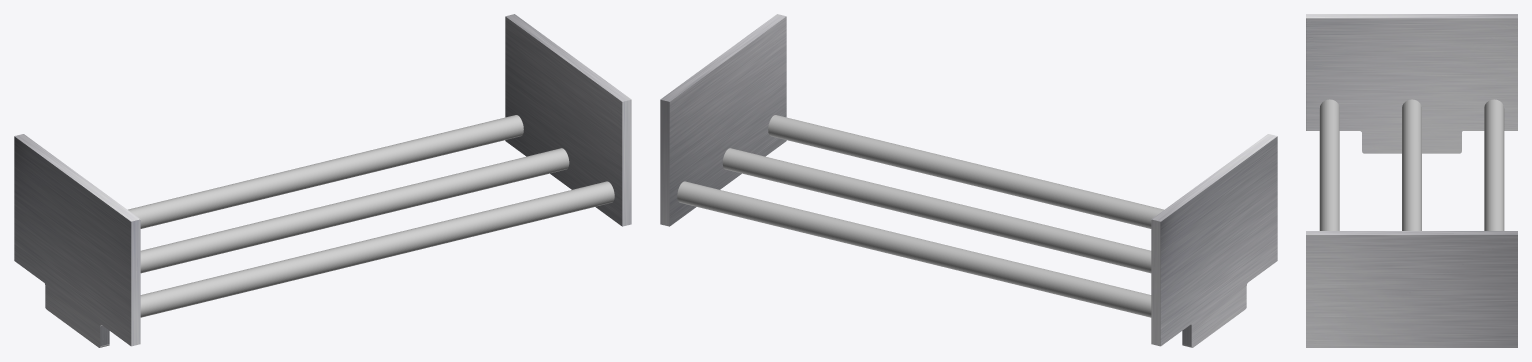
The model's file is XCorredera.obj.
The picture shows the model from 3 angles, left to right: view 1: azimuth 30°, elevation 25°; view 2: azimuth 150°, elevation 25°; view 3: azimuth 270°, elevation 25°; orthographic projection. The views are drawn at different scales.
Parts seen in each view (by area): view 1: 5d40d364e5c46215e1d5c69f_ID3; view 2: 5d40d364e5c46215e1d5c69f_ID3; view 3: 5d40d364e5c46215e1d5c69f_ID3.
Part boxes in pixels (<box>): 5d40d364e5c46215e1d5c69f_ID3: <box>14,14,631,347</box>; 5d40d364e5c46215e1d5c69f_ID3: <box>660,14,1277,347</box>; 5d40d364e5c46215e1d5c69f_ID3: <box>1306,14,1517,347</box>.
Bounding box in the file's own units: 210 × 60.01 × 85.
Materials: 2 (1 with a texture image).
